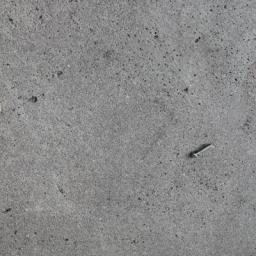FOD: (187, 140, 216, 162)
